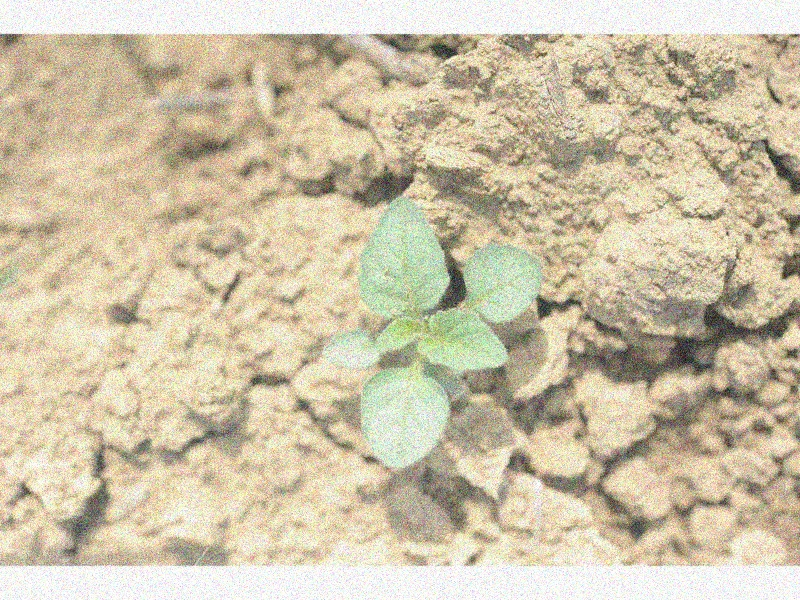nightshade: (321, 192, 541, 471)
